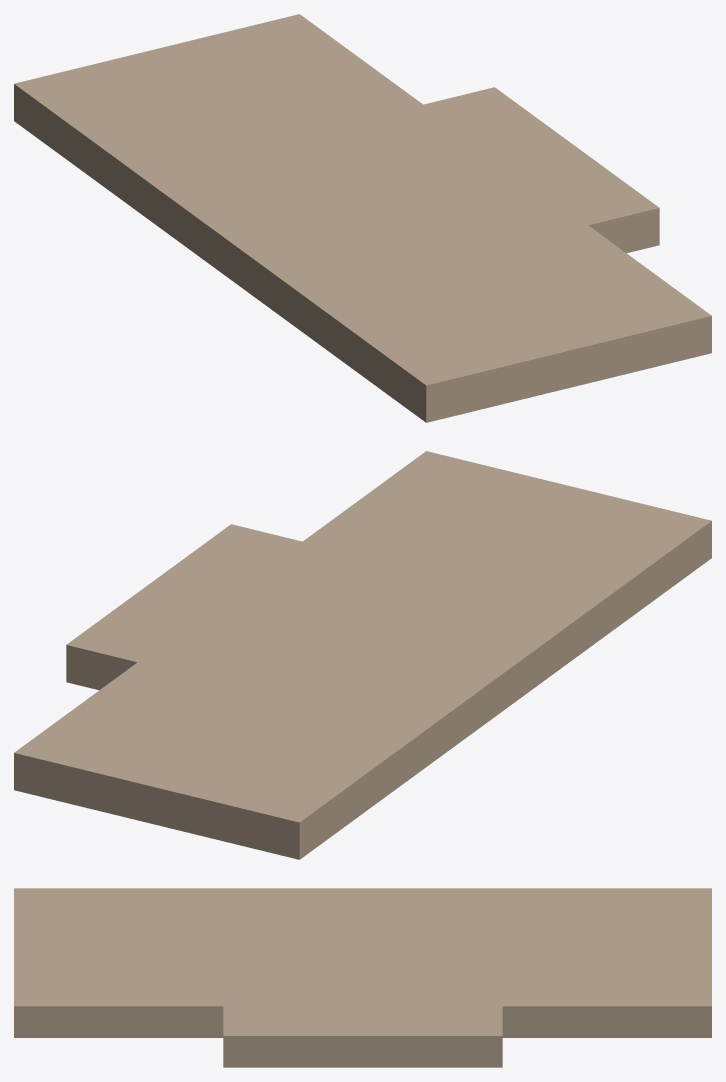
The model's file is path_t_junction.glb.
3 views of the same model, one above another, from view 1: azimuth 30°, elevation 25°; view 2: azimuth 150°, elevation 25°; view 3: azimuth 270°, elevation 25° (orthographic). The views are drawn at different scales.
Visible parts, largest first — view 1: Cube, Cube.001; view 2: Cube, Cube.001; view 3: Cube, Cube.001.
Part boxes in pixels (bbox=[...]): Cube: bbox=[14, 14, 711, 422]; Cube.001: bbox=[281, 87, 659, 259]; Cube: bbox=[14, 451, 711, 859]; Cube.001: bbox=[66, 524, 444, 696]; Cube: bbox=[14, 888, 711, 1037]; Cube.001: bbox=[223, 947, 502, 1067].
Size of the model in its own units: 1 by 0.1 by 2.
